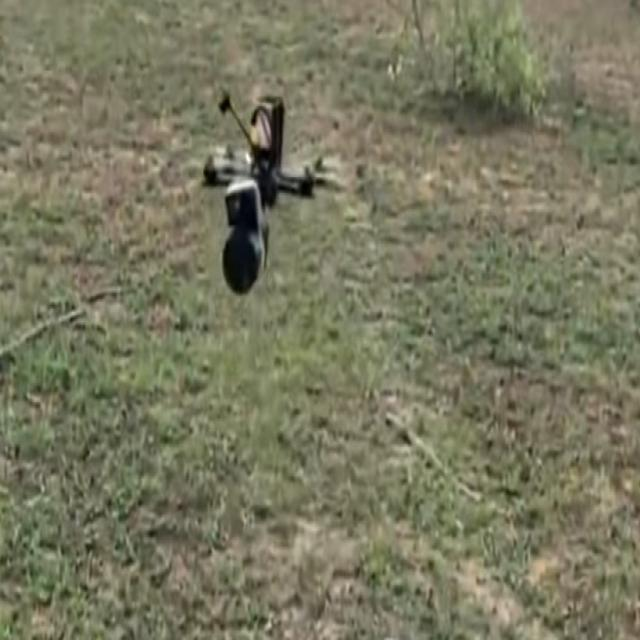drone: (201, 85, 335, 298)
